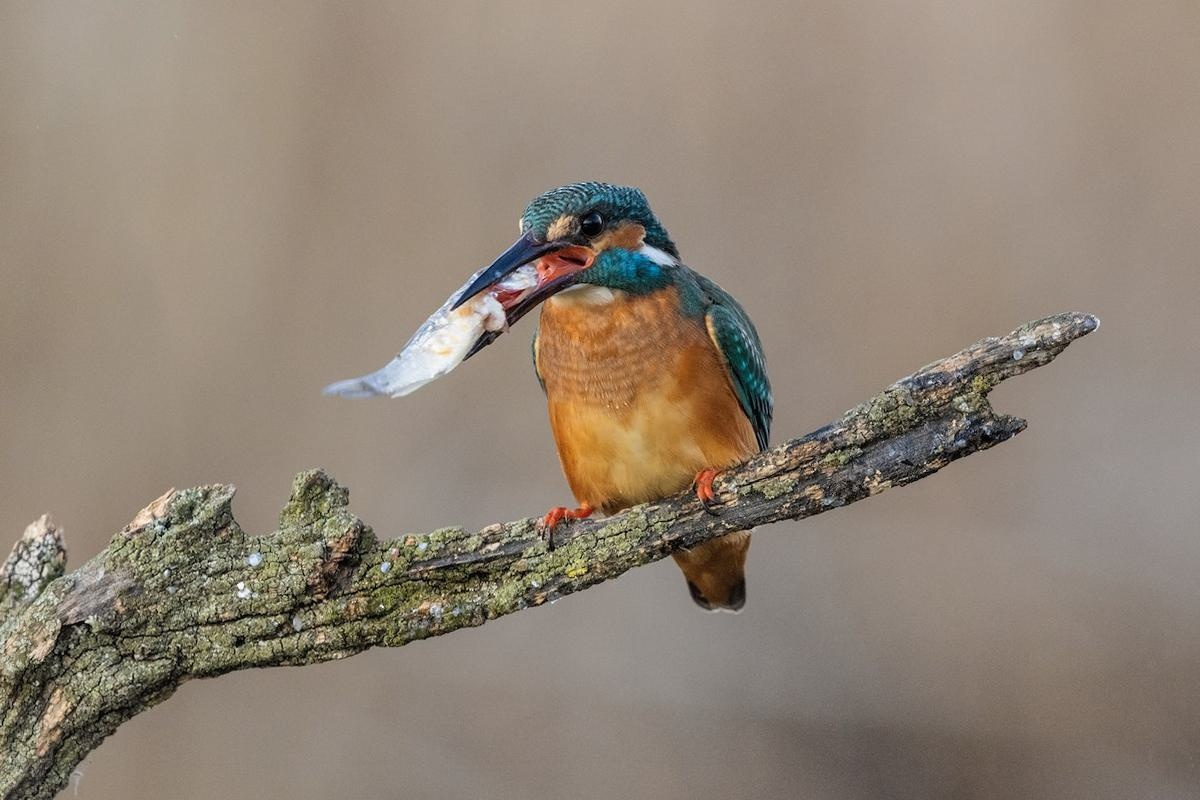kingfisher: (447, 177, 823, 616)
